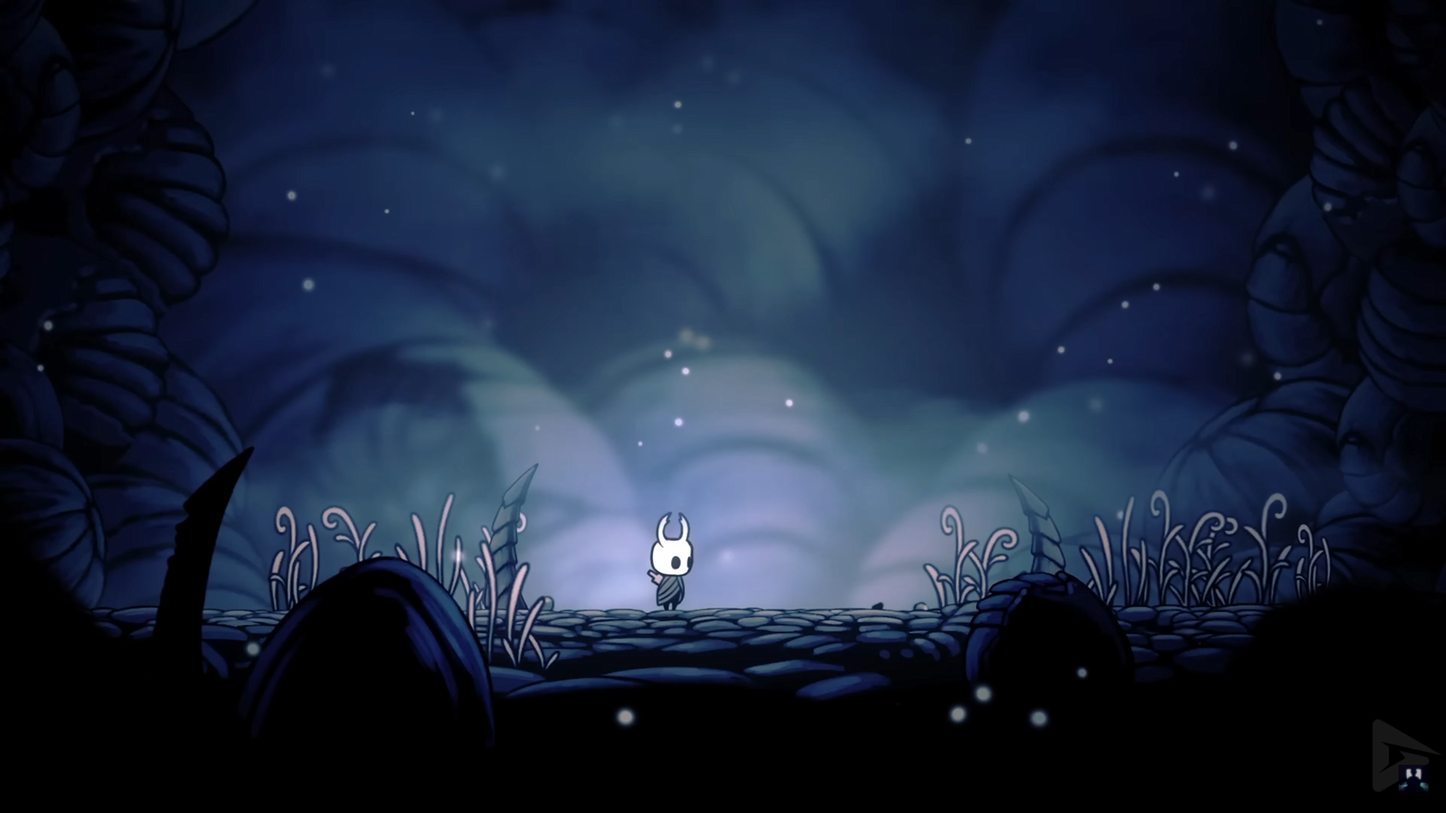HK: (641, 510, 700, 612)
